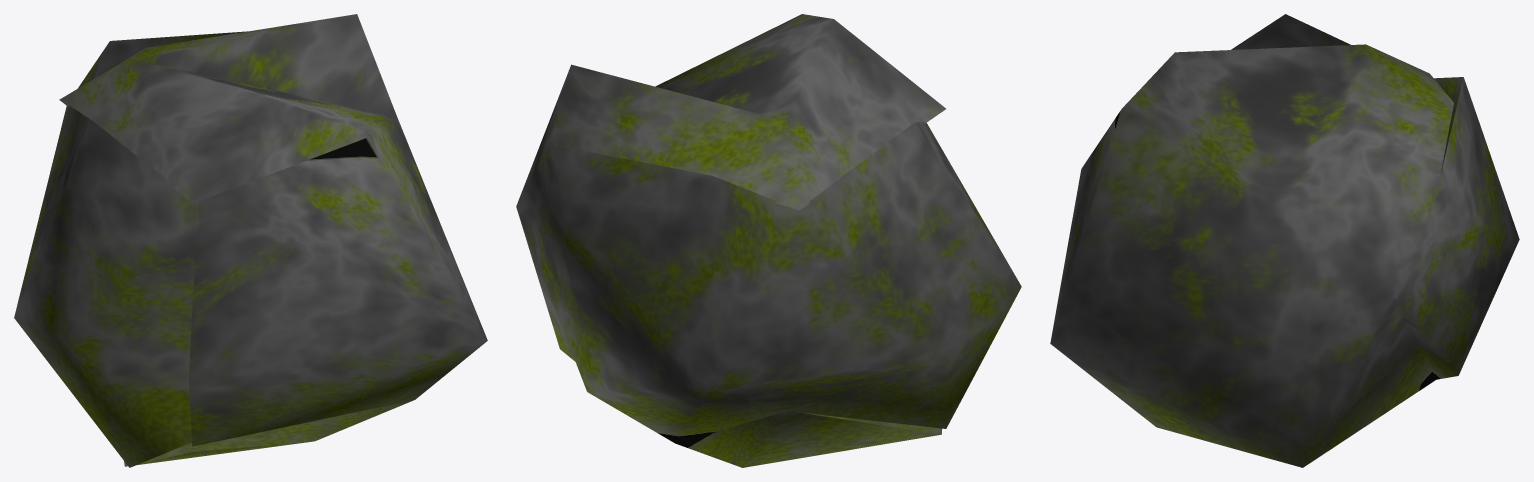
The model's file is boulder_lod2.glb.
3 views of the same model, side by side, from view 1: azimuth 30°, elevation 25°; view 2: azimuth 150°, elevation 25°; view 3: azimuth 270°, elevation 25° (orthographic). The views are drawn at different scales.
Parts seen in each view (by area): view 1: BoulderMossyLarge.001; view 2: BoulderMossyLarge.001; view 3: BoulderMossyLarge.001.
Part boxes in pixels (box(x1,y1,x2,y2)): BoulderMossyLarge.001: box(14, 14, 487, 467); BoulderMossyLarge.001: box(516, 14, 1021, 467); BoulderMossyLarge.001: box(1050, 14, 1519, 467).
Bounding box in the file's own units: 3.32 × 2.89 × 3.44.
1 material, 1 textured.
